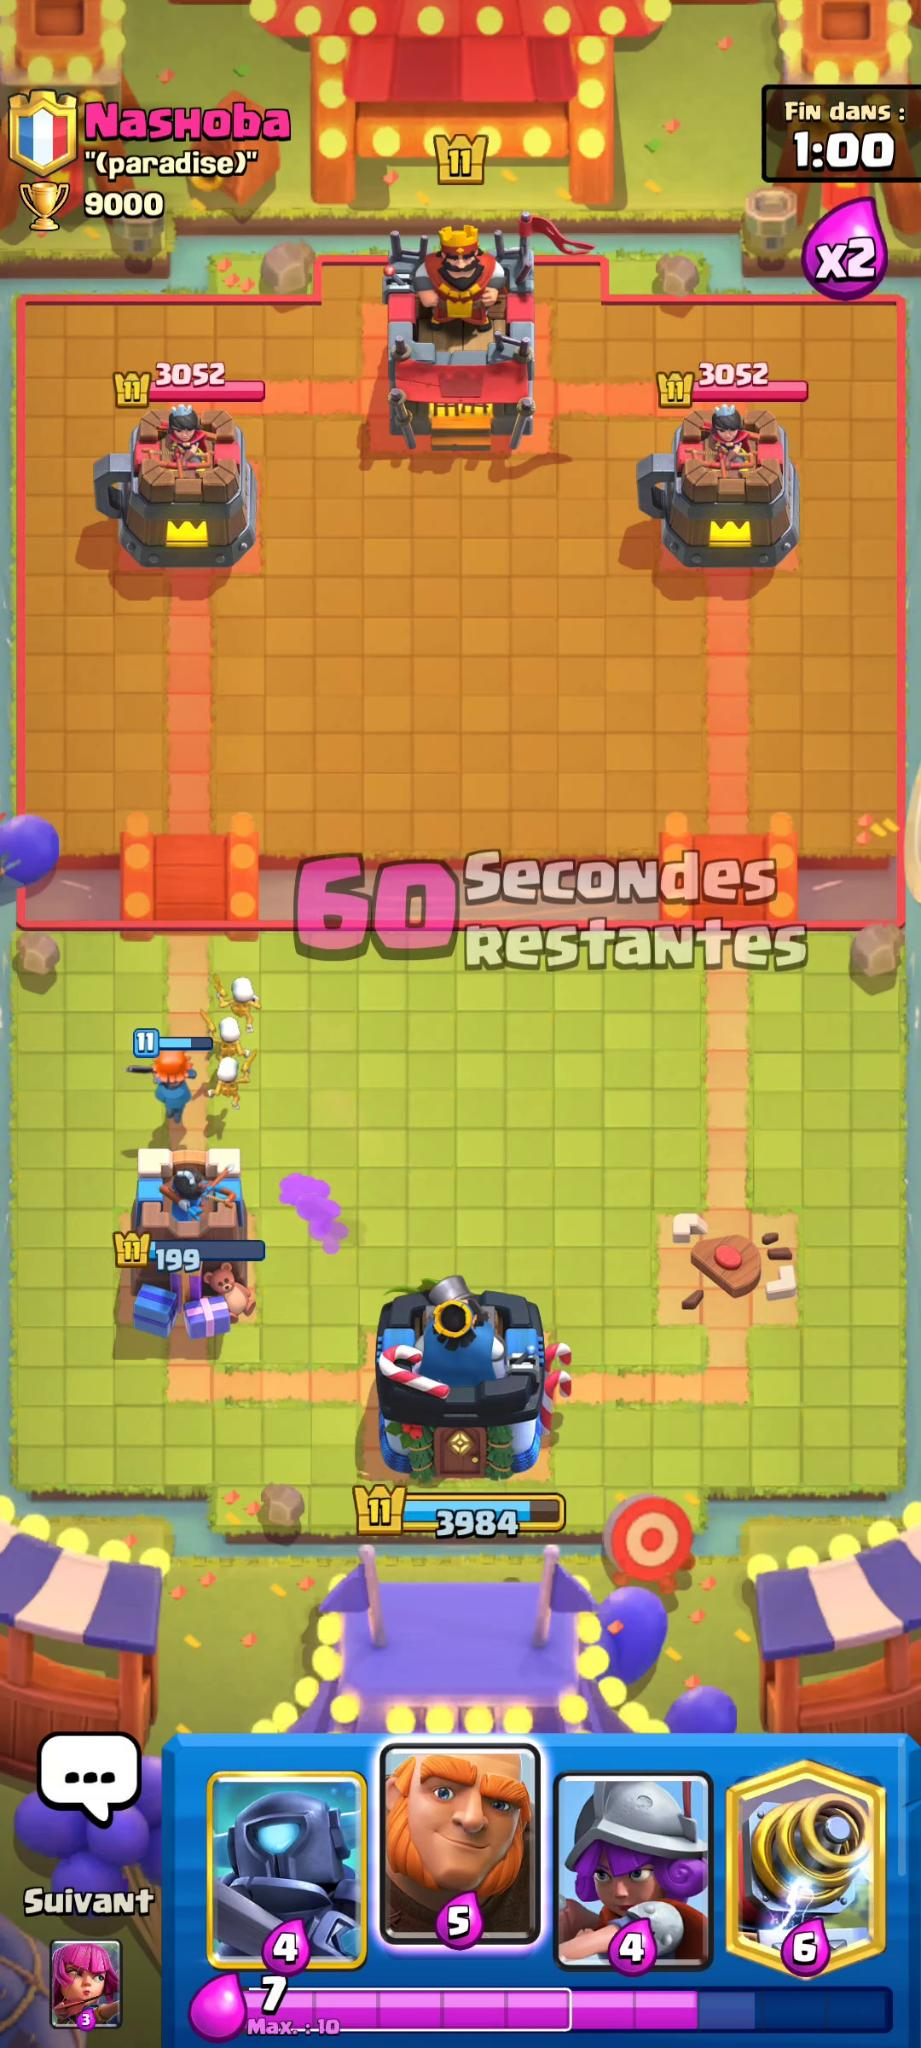squelette: (196, 1048, 263, 1110), (218, 978, 274, 1029), (204, 1015, 256, 1063)
valkyrie: (138, 1037, 199, 1123)
